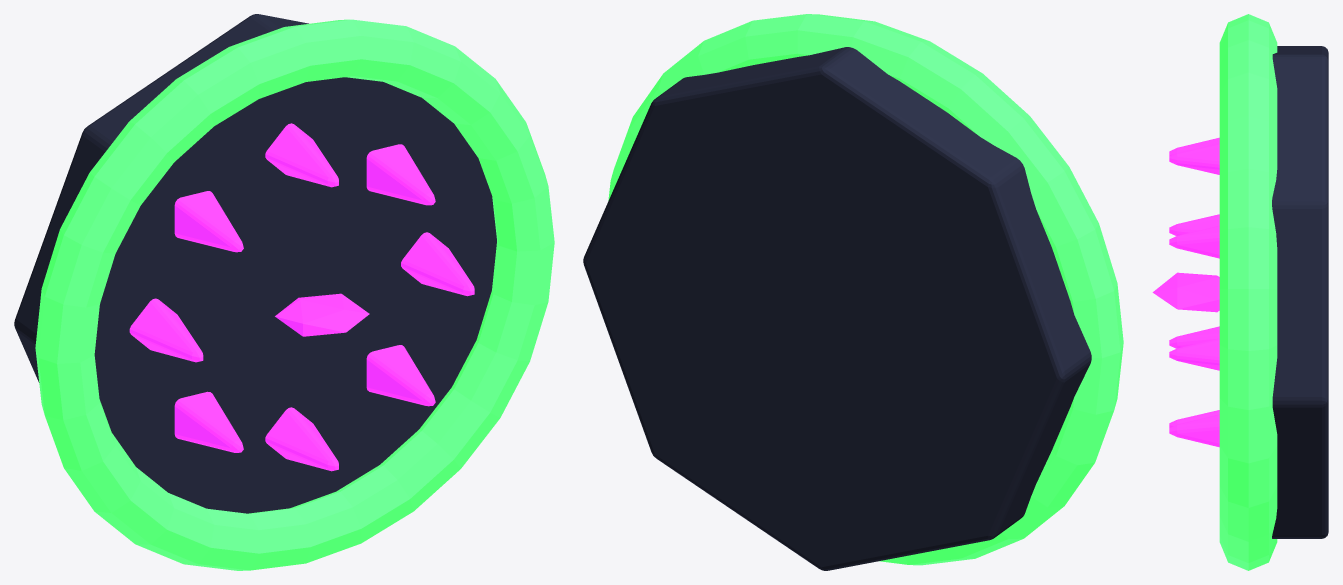
Rendered from rare_rune.glb.
The picture shows the model from 3 angles, left to right: view 1: azimuth 30°, elevation 25°; view 2: azimuth 150°, elevation 25°; view 3: azimuth 270°, elevation 25°; orthographic projection. The views are drawn at different scales.
Parts seen in each view (by area): view 1: RuneBody.001, Torus.028, Star_05.001, Star_01.001, Star_03.001, Star_07.001, Core.001, Star_00.001, Star_04.001, Star_06.001, Star_02.001; view 2: RuneBody.001, Torus.028; view 3: Torus.028, RuneBody.001, Core.001, Star_01.001, Star_07.001, Star_00.001, Star_02.001, Star_05.001, Star_04.001, Star_03.001, Star_06.001.
Part boxes in pixels (bbox=[...]): RuneBody.001: bbox=[14, 14, 496, 513]; Torus.028: bbox=[35, 19, 554, 570]; Star_05.001: bbox=[174, 391, 243, 452]; Star_01.001: bbox=[366, 144, 435, 205]; Star_03.001: bbox=[174, 191, 243, 252]; Star_07.001: bbox=[366, 345, 435, 406]; Core.001: bbox=[275, 293, 369, 336]; Star_00.001: bbox=[401, 232, 474, 296]; Star_04.001: bbox=[129, 298, 203, 362]; Star_06.001: bbox=[265, 407, 338, 471]; Star_02.001: bbox=[265, 123, 338, 187]; RuneBody.001: bbox=[583, 47, 1091, 570]; Torus.028: bbox=[608, 14, 1123, 565]; Torus.028: bbox=[1219, 14, 1277, 570]; RuneBody.001: bbox=[1272, 46, 1328, 538]; Core.001: bbox=[1152, 272, 1219, 312]; Star_01.001: bbox=[1169, 225, 1219, 258]; Star_07.001: bbox=[1169, 414, 1219, 447]; Star_00.001: bbox=[1169, 338, 1219, 370]; Star_02.001: bbox=[1169, 143, 1219, 174]; Star_05.001: bbox=[1169, 326, 1219, 348]; Star_04.001: bbox=[1169, 214, 1219, 235]; Star_03.001: bbox=[1169, 137, 1219, 155]; Star_06.001: bbox=[1169, 410, 1219, 427].
Size of the model in its own units: 1.74 by 1.74 by 0.55.
